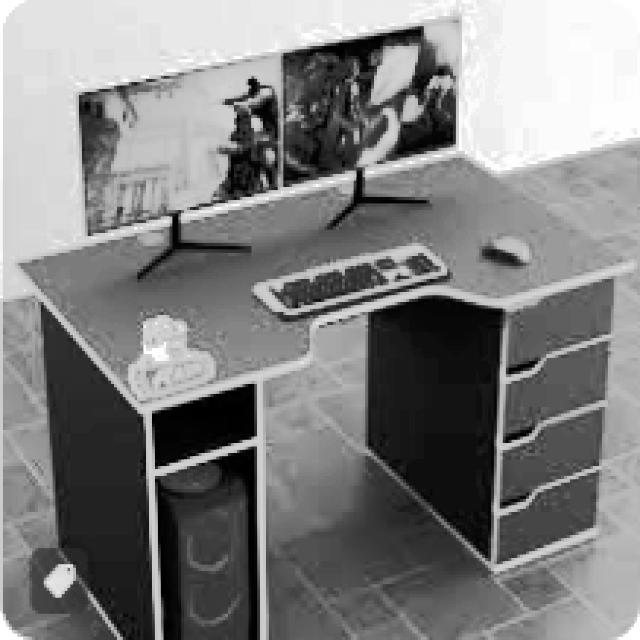table: (12, 148, 634, 636)
